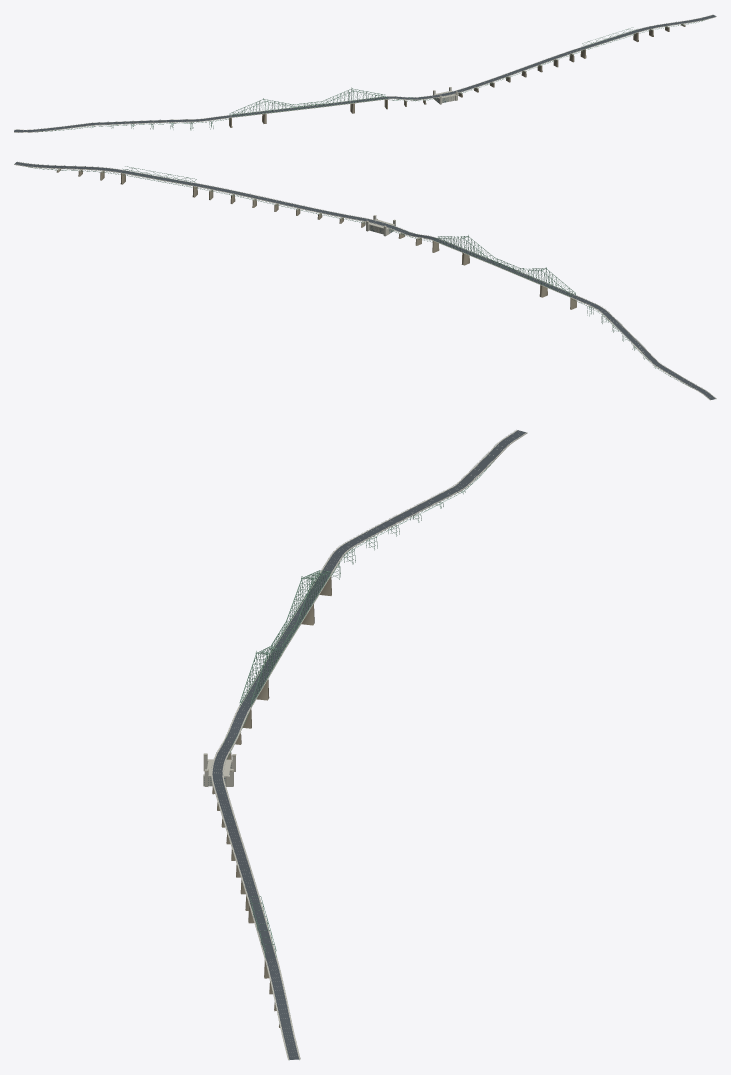
The model's file is pont-jacques-cartier-near.glb.
3 views of the same model, one above another, from view 1: azimuth 30°, elevation 25°; view 2: azimuth 150°, elevation 25°; view 3: azimuth 270°, elevation 25° (orthographic). The views are drawn at different scales.
Visible parts, largest first — view 1: pont-jacques-cartier-1-steel, pont-jacques-cartier-4-concrete, pont-jacques-cartier-0-asphalt, pont-jacques-cartier-4-asphalt, pont-jacques-cartier-3-asphalt, pont-jacques-cartier-1-asphalt, pont-jacques-cartier-2-asphalt, pont-jacques-cartier-3-stone, pont-jacques-cartier-2-concrete, pont-jacques-cartier-1-concrete, pont-jacques-cartier-0-steel, pont-jacques-cartier-0-concrete (+3 smaller); view 2: pont-jacques-cartier-1-steel, pont-jacques-cartier-4-concrete, pont-jacques-cartier-4-asphalt, pont-jacques-cartier-0-asphalt, pont-jacques-cartier-3-asphalt, pont-jacques-cartier-1-asphalt, pont-jacques-cartier-2-asphalt, pont-jacques-cartier-3-steel; view 3: pont-jacques-cartier-1-steel, pont-jacques-cartier-2-asphalt, pont-jacques-cartier-4-asphalt, pont-jacques-cartier-3-asphalt, pont-jacques-cartier-1-asphalt, pont-jacques-cartier-0-asphalt, pont-jacques-cartier-4-concrete, pont-jacques-cartier-5-asphalt.
Part boxes in pixels (left/top/right/bottom): pont-jacques-cartier-1-steel: left=229, top=87, right=386, bottom=117; pont-jacques-cartier-4-concrete: left=433, top=24, right=684, bottom=104; pont-jacques-cartier-0-asphalt: left=14, top=120, right=150, bottom=132; pont-jacques-cartier-4-asphalt: left=530, top=29, right=641, bottom=66; pont-jacques-cartier-3-asphalt: left=416, top=65, right=532, bottom=99; pont-jacques-cartier-1-asphalt: left=150, top=109, right=284, bottom=122; pont-jacques-cartier-2-asphalt: left=284, top=96, right=416, bottom=110; pont-jacques-cartier-3-stone: left=506, top=32, right=638, bottom=82; pont-jacques-cartier-2-concrete: left=284, top=82, right=494, bottom=111; pont-jacques-cartier-1-concrete: left=150, top=99, right=387, bottom=123; pont-jacques-cartier-0-steel: left=37, top=118, right=230, bottom=132; pont-jacques-cartier-0-concrete: left=14, top=120, right=150, bottom=132; pont-jacques-cartier-1-steel: left=433, top=235, right=575, bottom=296; pont-jacques-cartier-4-concrete: left=57, top=169, right=395, bottom=236; pont-jacques-cartier-4-asphalt: left=116, top=169, right=267, bottom=200; pont-jacques-cartier-0-asphalt: left=624, top=333, right=715, bottom=399; pont-jacques-cartier-3-asphalt: left=266, top=198, right=410, bottom=234; pont-jacques-cartier-1-asphalt: left=525, top=276, right=628, bottom=333; pont-jacques-cartier-2-asphalt: left=407, top=233, right=527, bottom=277; pont-jacques-cartier-3-steel: left=122, top=166, right=296, bottom=209; pont-jacques-cartier-1-steel: left=239, top=570, right=330, bottom=707; pont-jacques-cartier-2-asphalt: left=225, top=619, right=300, bottom=741; pont-jacques-cartier-4-asphalt: left=234, top=851, right=276, bottom=963; pont-jacques-cartier-3-asphalt: left=212, top=740, right=244, bottom=851; pont-jacques-cartier-1-asphalt: left=292, top=518, right=399, bottom=620; pont-jacques-cartier-0-asphalt: left=392, top=430, right=526, bottom=520; pont-jacques-cartier-4-concrete: left=203, top=753, right=278, bottom=964; pont-jacques-cartier-5-asphalt: left=267, top=963, right=299, bottom=1059.
Size of the model in its own units: 2720 by 95.6 by 592.
